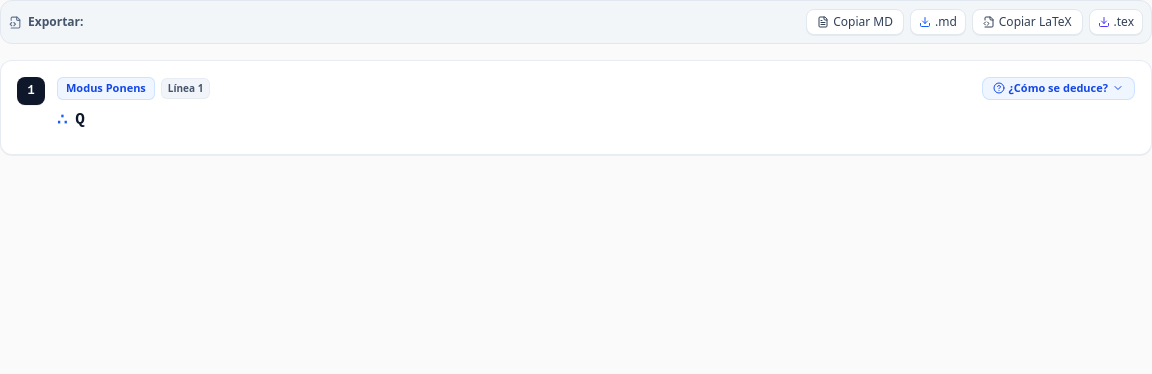
Scenario: PanelTrazabilidad › despliega y oculta la explicación didáctica al hacer clic en el botón
expect the text "Justificación lógica de la regla." is not shown: met
Note: Clic para abrir
Click the button "¿Cómo se deduce?" at (1058, 88), box [982,77,1135,100]
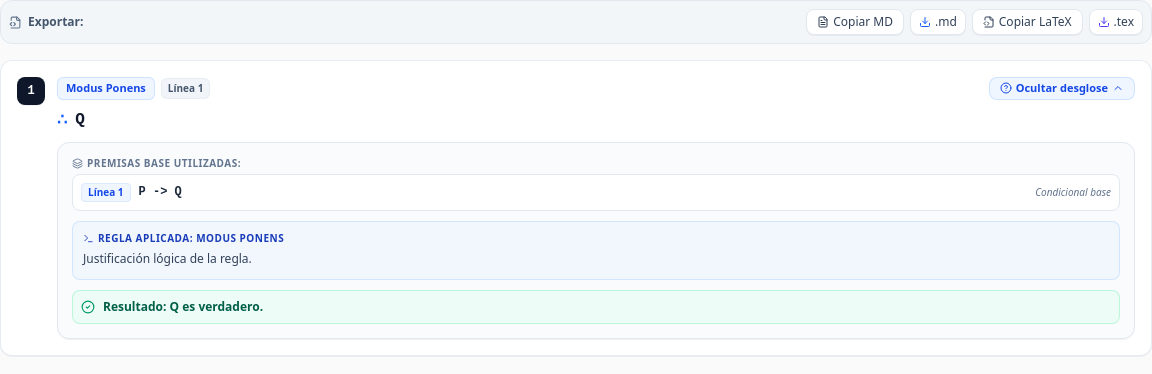
expect the text "Justificación lógica de la regla." is shown: met, box [83,250,252,268]
expect the text "Premisas base utilizadas" is shown: met, box [87,156,241,170]
expect the text "Ocultar desglose" is shown: met, box [1016,80,1108,96]
Note: Clic para cerrar
Click the button "Ocultar desglose" at (1062, 88), box [989,77,1135,100]
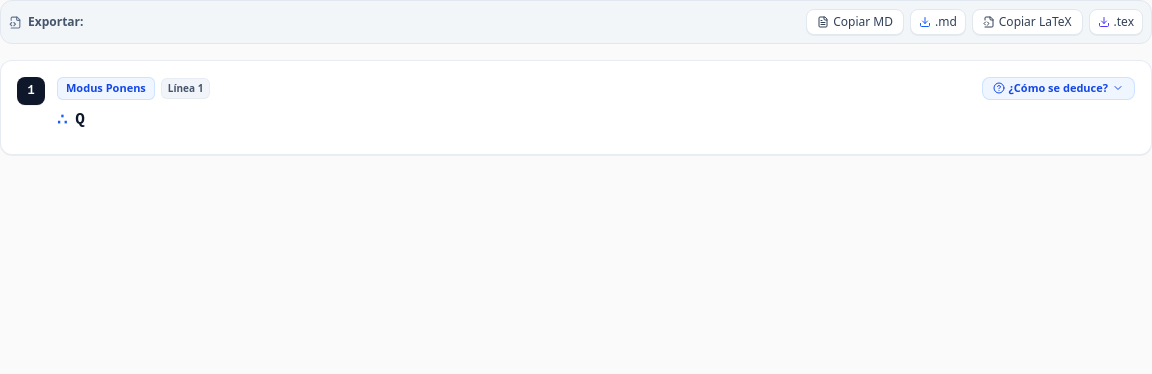
expect the text "Justificación lógica de la regla." is gone: met
